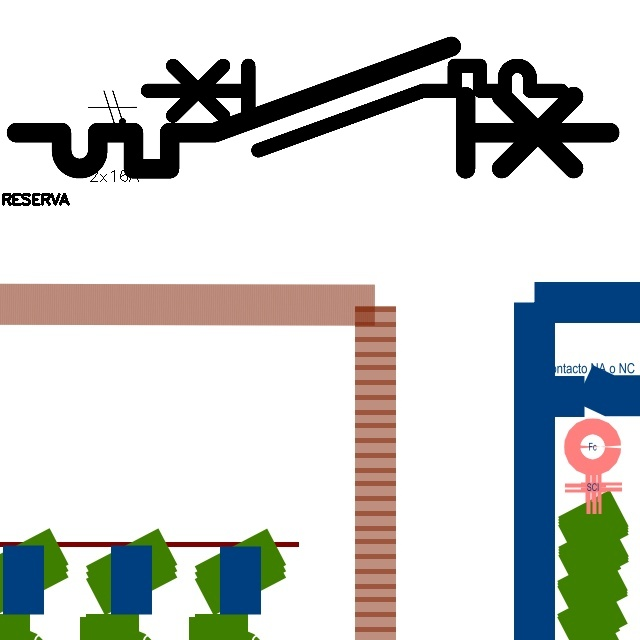interruptor_termomagnetico: (1, 31, 625, 184), (137, 55, 572, 161)
